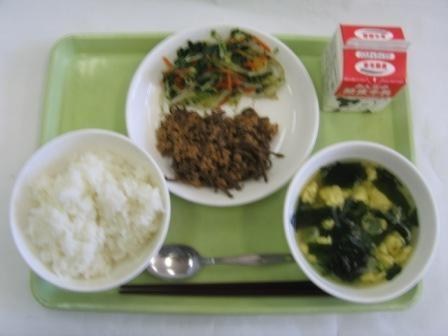Milk: (313, 17, 421, 117)
Rice: (9, 134, 163, 284)
Soups: (284, 138, 441, 299)
cooked food based on meat: (156, 106, 283, 198)
salad with sauce: (162, 28, 285, 110)
